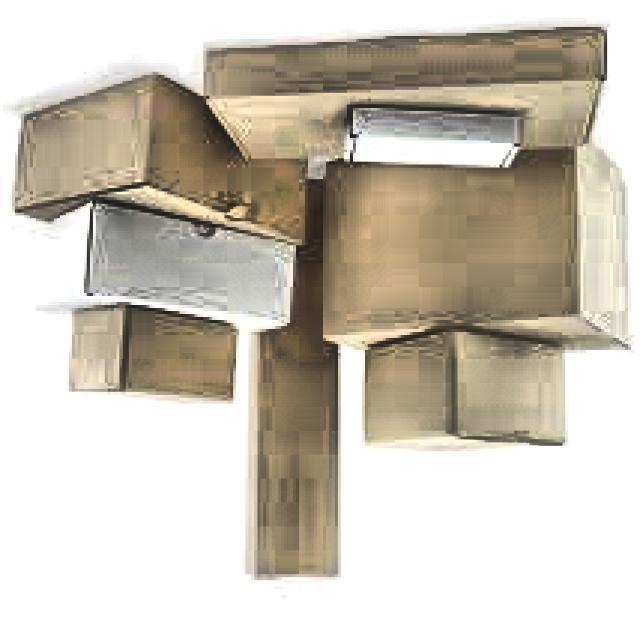cardboard: (323, 147, 634, 356), (203, 29, 610, 168), (15, 74, 311, 248), (83, 200, 300, 335), (364, 330, 568, 454), (68, 305, 240, 407)
